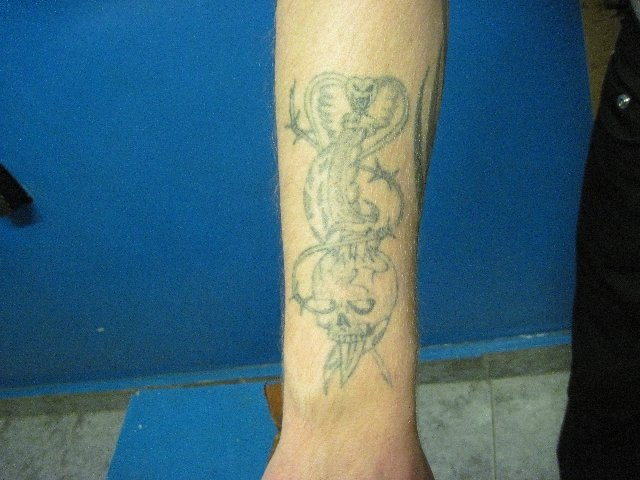tatu7_zmeya: (293, 59, 422, 393)
